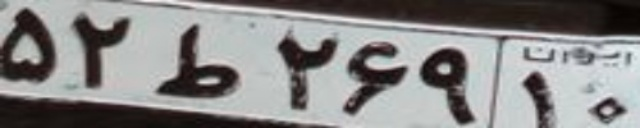0: (579, 93, 629, 124)
1: (519, 69, 559, 126)
2: (274, 35, 336, 111), (71, 14, 132, 88)
5: (2, 5, 59, 83)
6: (343, 38, 408, 116)
9: (420, 46, 476, 124)
taa: (153, 22, 240, 98)
